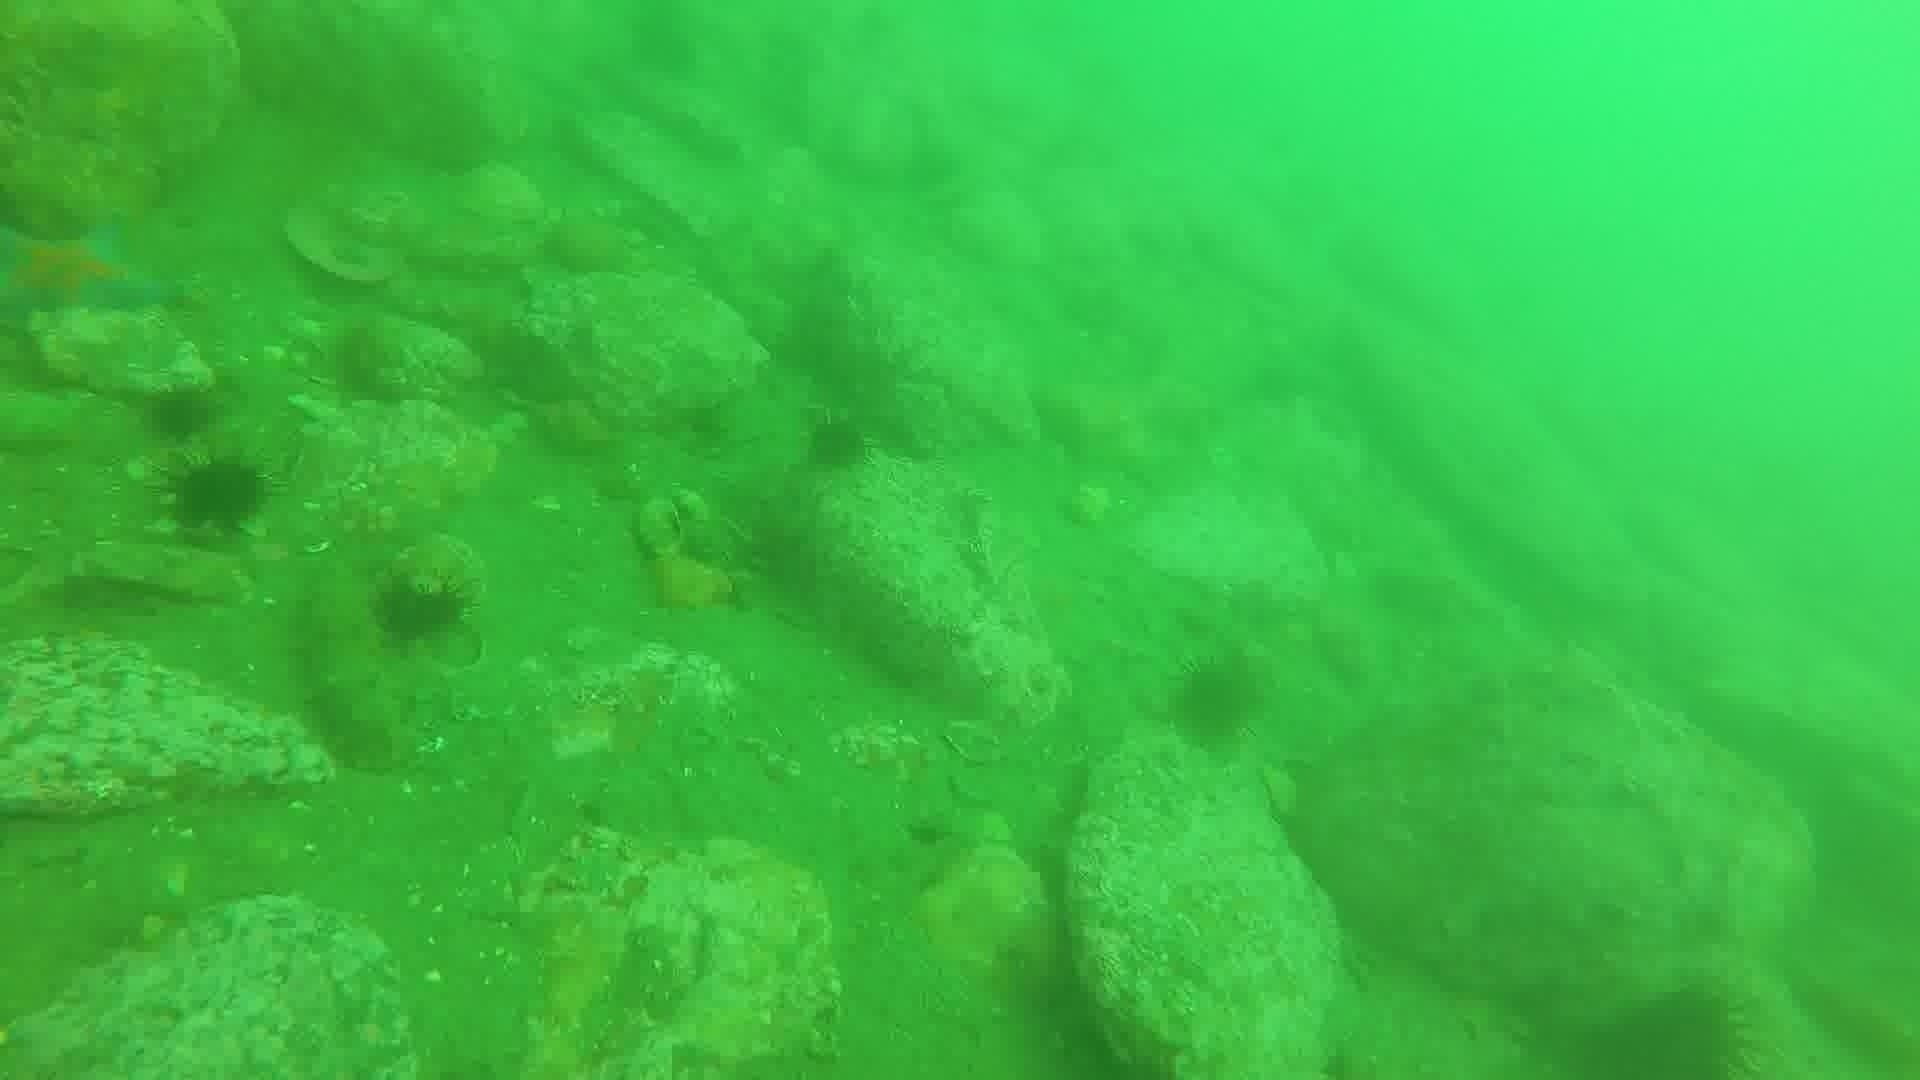echinus: (1609, 981, 1756, 1077), (162, 451, 273, 541), (1164, 653, 1265, 752), (365, 568, 473, 650), (141, 380, 220, 447), (798, 410, 876, 477)
holothurian: (291, 572, 407, 771)
starfish: (3, 220, 183, 331)
